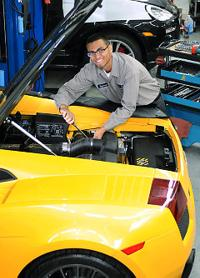person: (54, 31, 167, 143)
